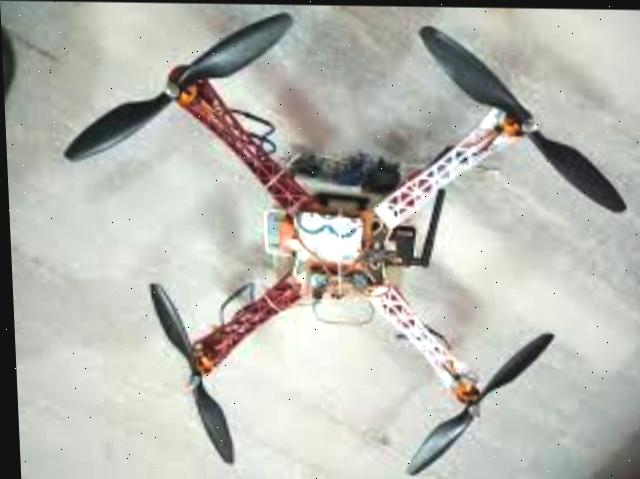drone: (75, 10, 605, 469)
